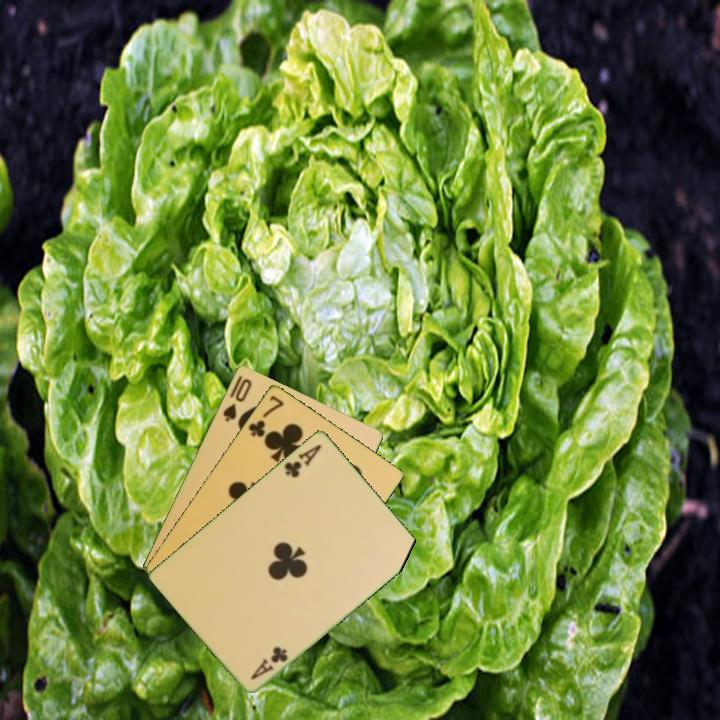10s: (219, 375, 255, 424)
7c: (245, 391, 287, 440)
Ac: (281, 440, 325, 481), (247, 642, 291, 682)
